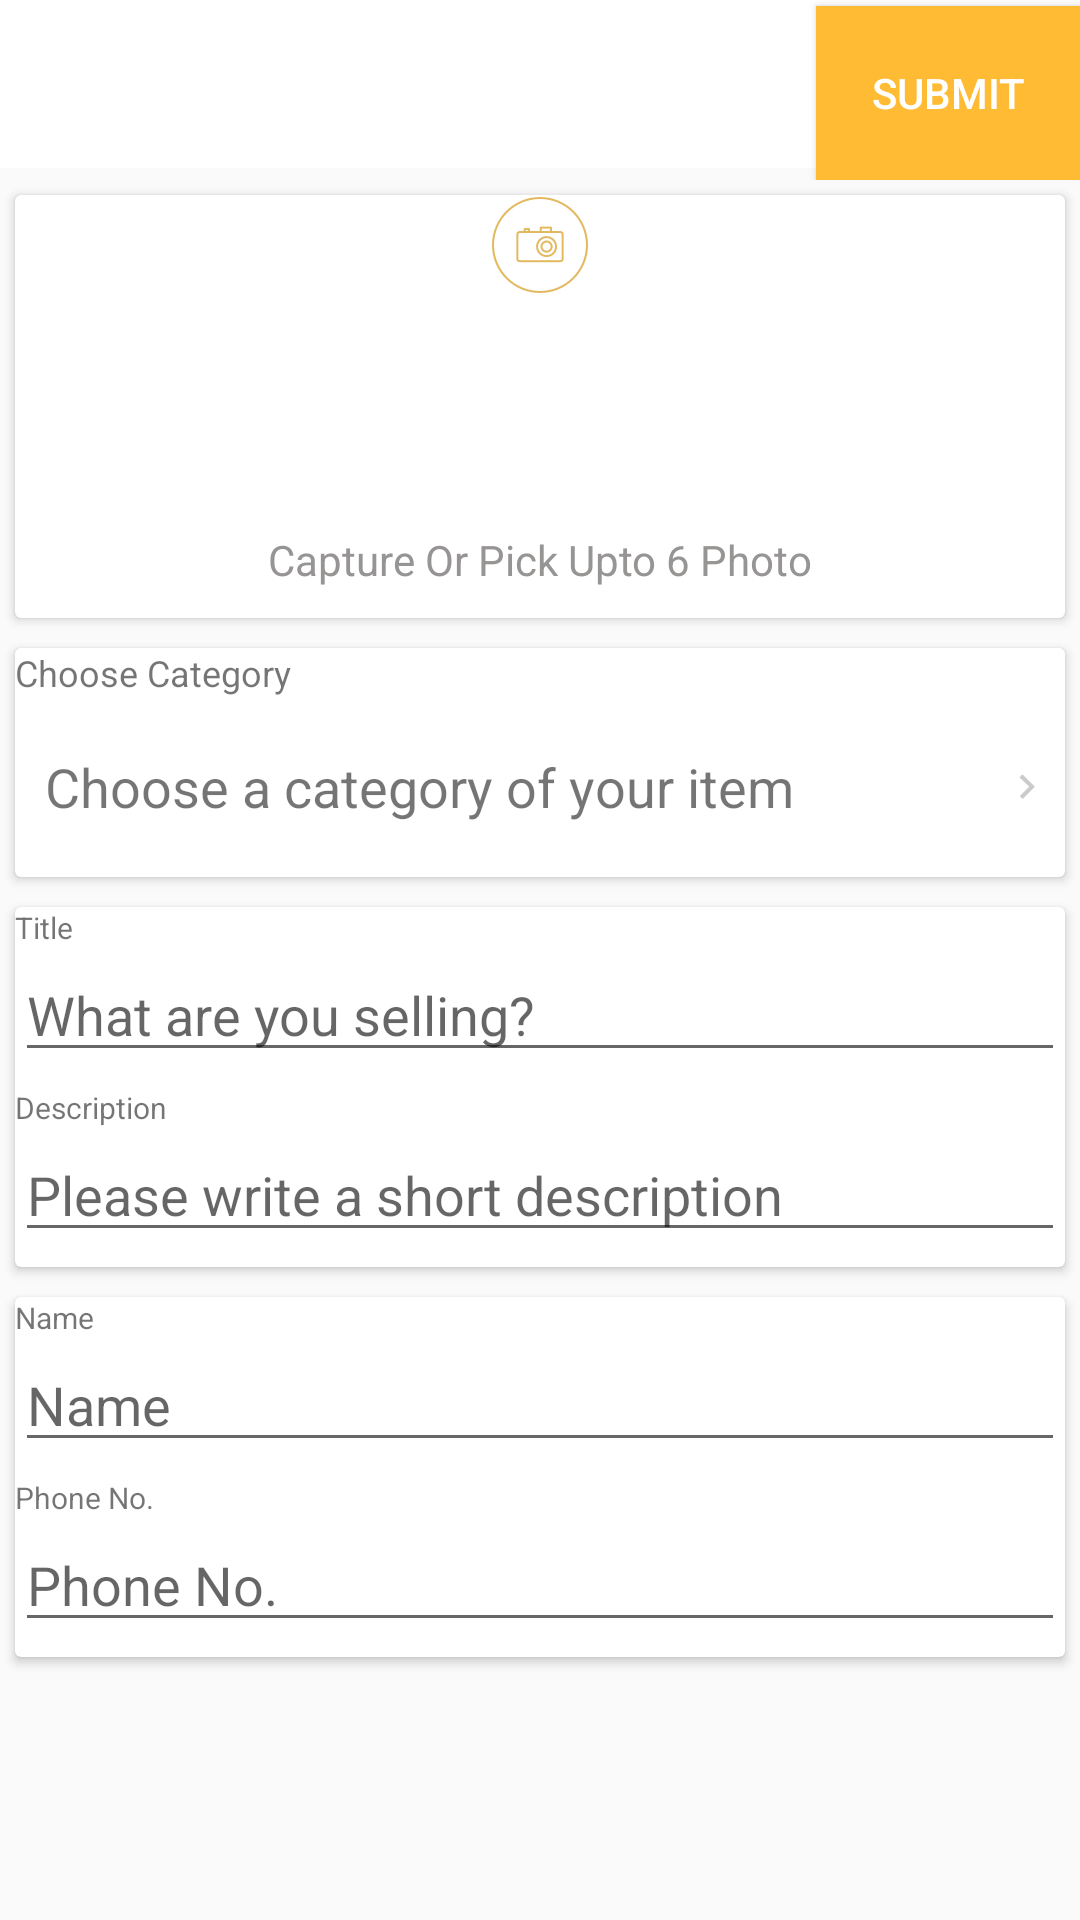

Icon click points for this 1080w x 1920h phone screenshot, format (x,y):
camera: (540,245)
